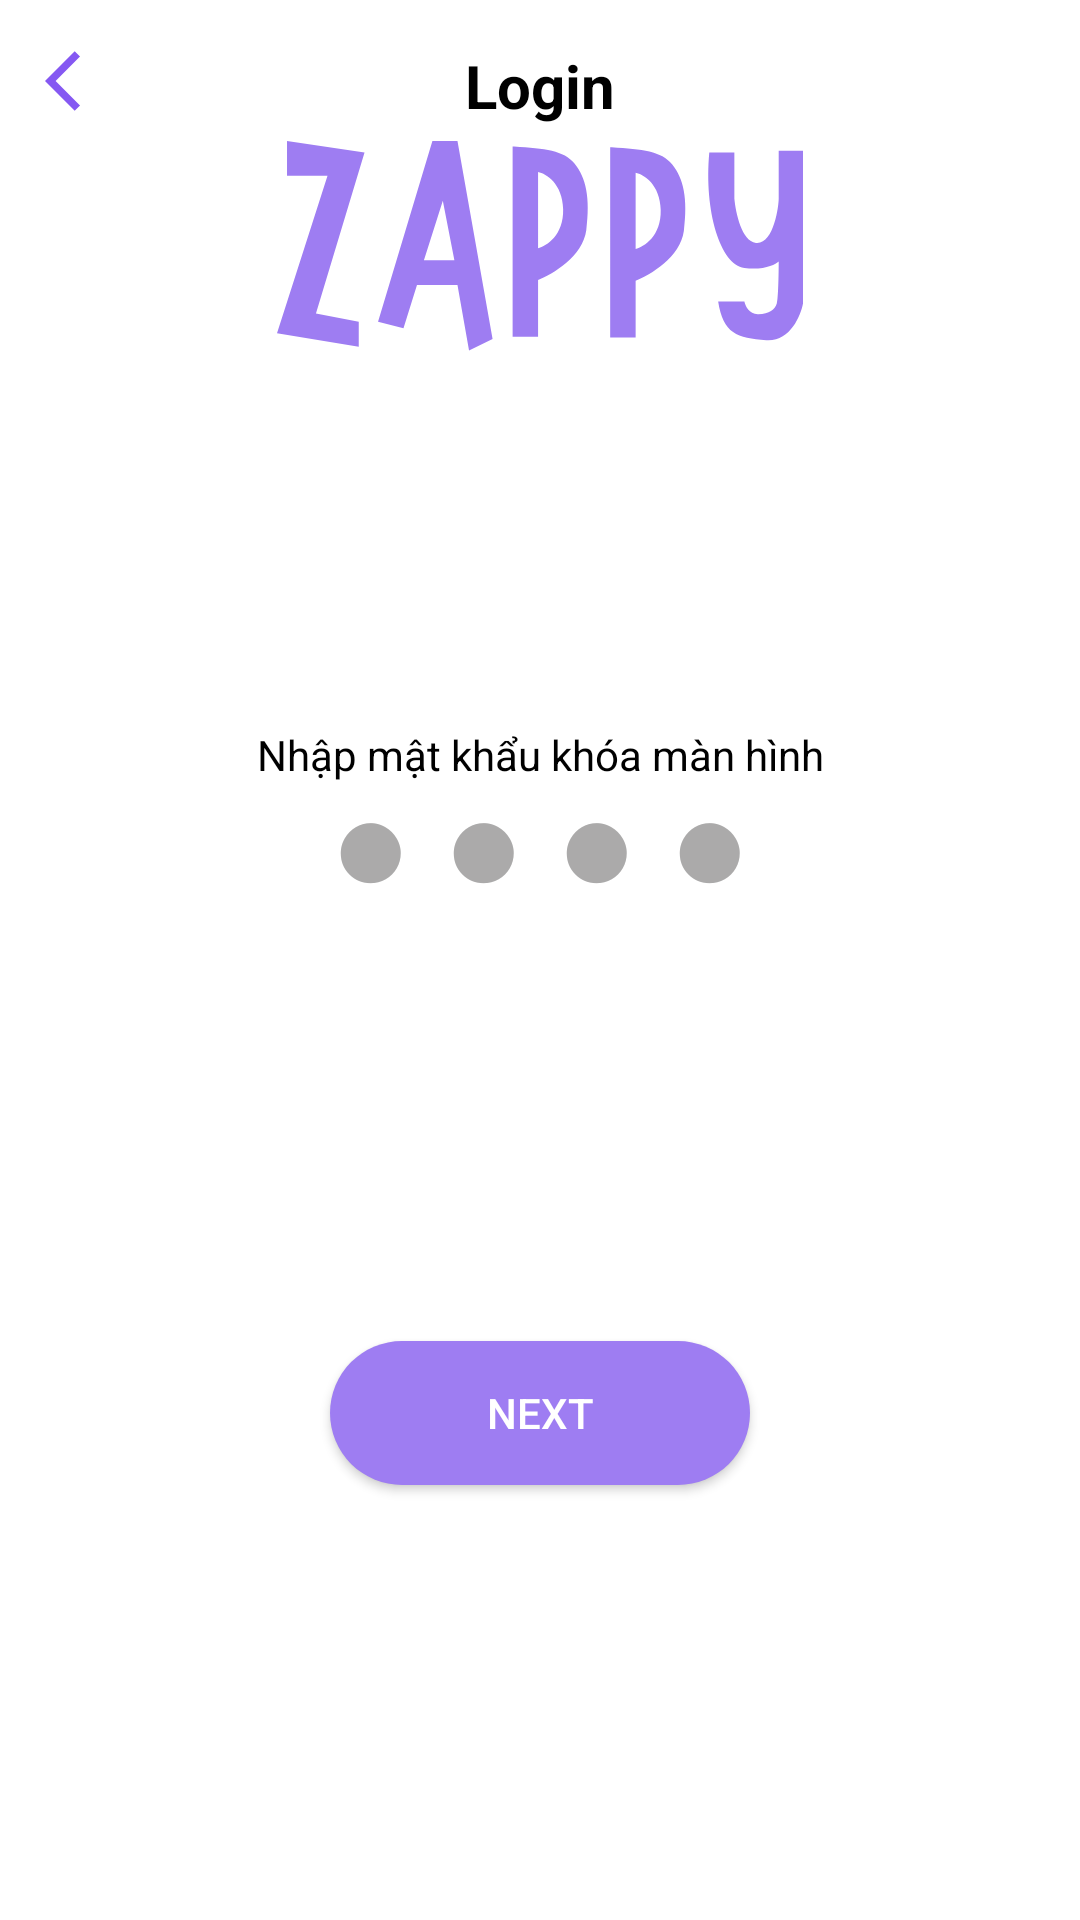

Screen size 1080×1920. Icon name, then its box in pixels as box(x1, y1, x2, y2):
arrow back deep: box(45, 51, 80, 111)
